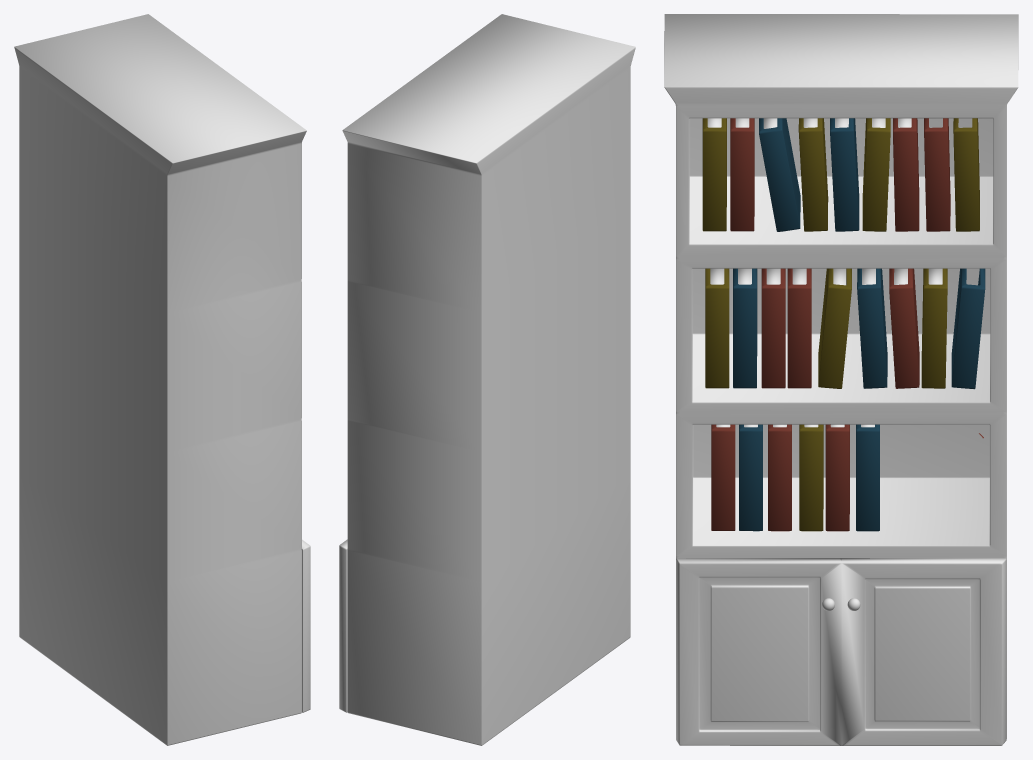
The model's file is hondana3_matigai.fbx.
3 views of the same model, side by side, from view 1: azimuth 30°, elevation 25°; view 2: azimuth 150°, elevation 25°; view 3: azimuth 270°, elevation 25° (orthographic). The views are drawn at different scales.
Visible parts, largest first — view 1: 立方体.073; view 2: 立方体.073; view 3: 立方体.073.
Part boxes in pixels (x1,y1,x2,y2): 立方体.073: [14, 14, 310, 745]; 立方体.073: [339, 14, 635, 745]; 立方体.073: [664, 14, 1018, 745].
Size of the model in its own units: 30.27 by 109 by 53.8.
